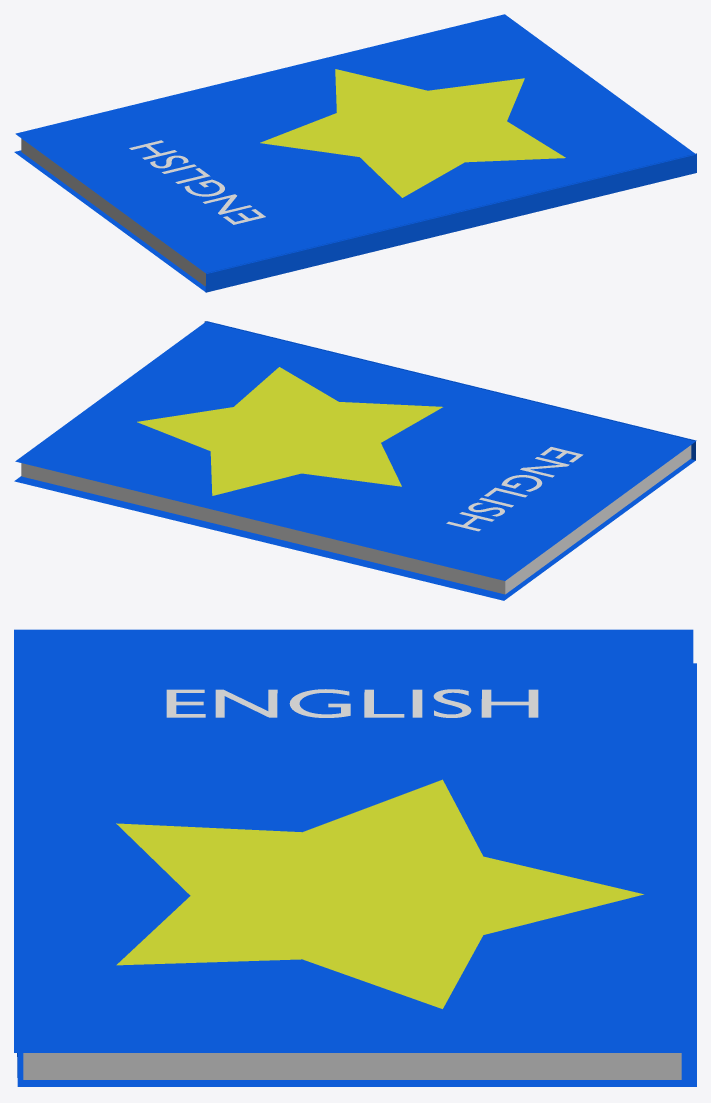
File: eigo.fbx
The picture shows the model from 3 angles, top to bottom: view 1: azimuth 30°, elevation 25°; view 2: azimuth 150°, elevation 25°; view 3: azimuth 270°, elevation 25°; orthographic projection. The views are drawn at different scales.
Parts seen in each view (by area): view 1: 平面.001, 円, 平面.003, Cube, テキスト, 平面.004; view 2: 平面.001, 円, Cube, 平面.004, テキスト, 平面.003; view 3: 平面.001, 円, Cube, 平面.004, テキスト.
Part boxes in pixels (x1,y1,x2,y2): 平面.001: (15,14,695,273); 円: (260,69,565,197); 平面.003: (205,153,696,292); Cube: (21,138,205,286); テキスト: (129,140,265,224); 平面.004: (14,150,205,291); 平面.001: (15,321,696,580); 円: (137,367,442,495); Cube: (21,445,691,594); 平面.004: (14,459,695,600); テキスト: (446,447,583,531); 平面.003: (204,321,695,460); 平面.001: (14,629,693,1052); 円: (116,779,643,1008); Cube: (23,1053,681,1079); 平面.004: (17,663,696,1086); テキスト: (166,689,538,717).
Bounding box in the file's own units: 1027 × 40.23 × 698.
